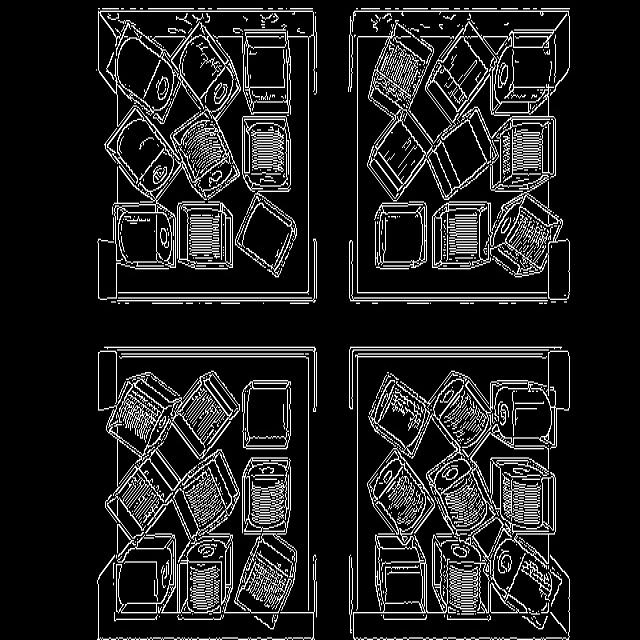Pump: (101, 12, 181, 123), (105, 107, 181, 202), (494, 192, 570, 284), (425, 24, 500, 114), (485, 113, 564, 196), (172, 22, 240, 118), (105, 452, 179, 540), (491, 26, 567, 111), (106, 372, 181, 457), (364, 532, 433, 623), (172, 370, 240, 458), (172, 112, 239, 200), (172, 450, 239, 538), (486, 534, 555, 618), (369, 17, 430, 112), (426, 452, 495, 535), (235, 535, 296, 628), (368, 450, 434, 535), (488, 455, 570, 523), (365, 109, 430, 192), (369, 373, 431, 458), (116, 533, 176, 620), (433, 113, 492, 200), (237, 193, 298, 277), (432, 370, 490, 457), (234, 26, 290, 115), (432, 534, 488, 620), (430, 195, 488, 278), (179, 535, 232, 620), (492, 380, 556, 450), (366, 201, 428, 271), (112, 202, 175, 270), (372, 201, 428, 271), (242, 457, 291, 535), (179, 202, 232, 270), (242, 117, 288, 192), (242, 380, 291, 450)
